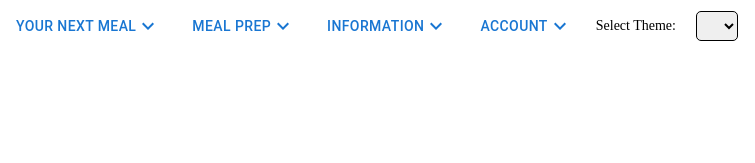
Test: shows Account links in Navbar
Step 1. Click the button "Account" → (526, 26), box [472, 8, 580, 44]
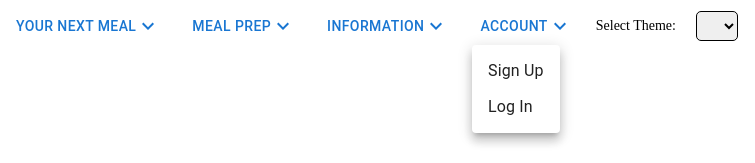
Check: the menu item "Sign Up" is shown, box [488, 61, 544, 80]
Check: the menu item "Log In" is shown, box [488, 97, 533, 116]
